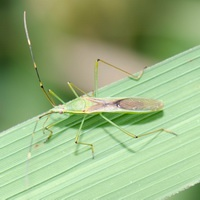insect: (24, 11, 176, 159)
